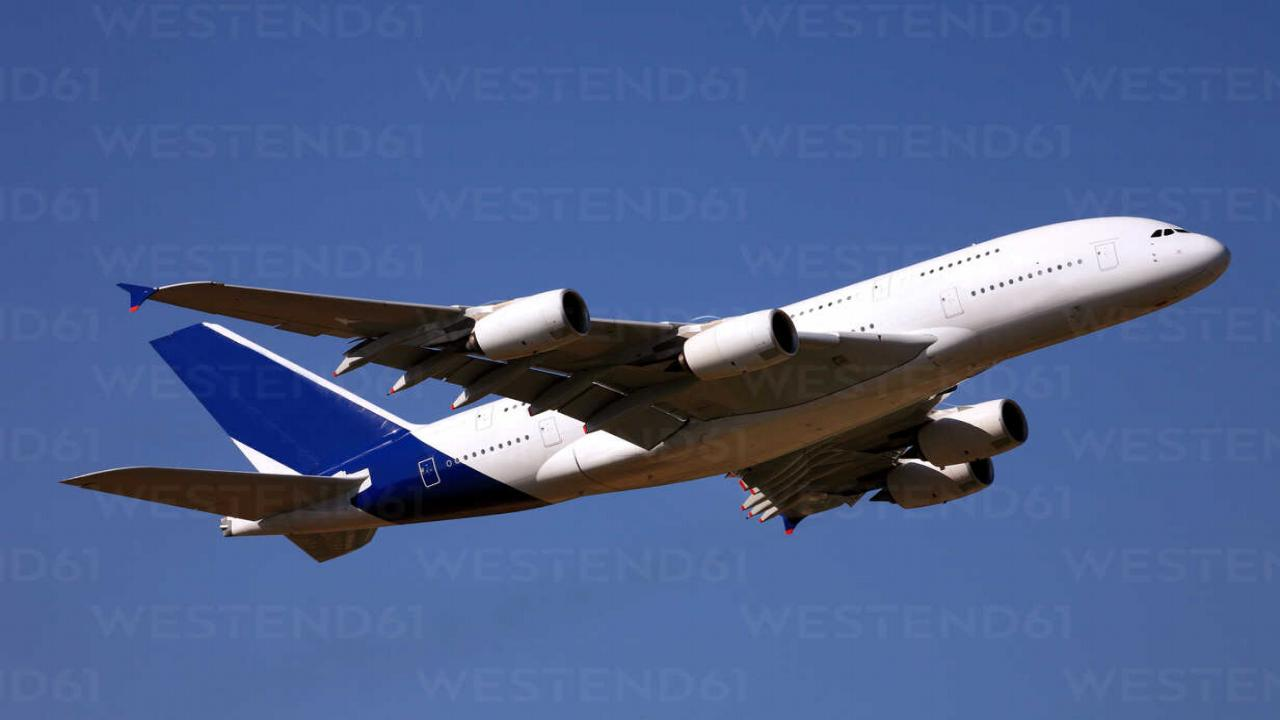Airplane: (53, 197, 1255, 573)
